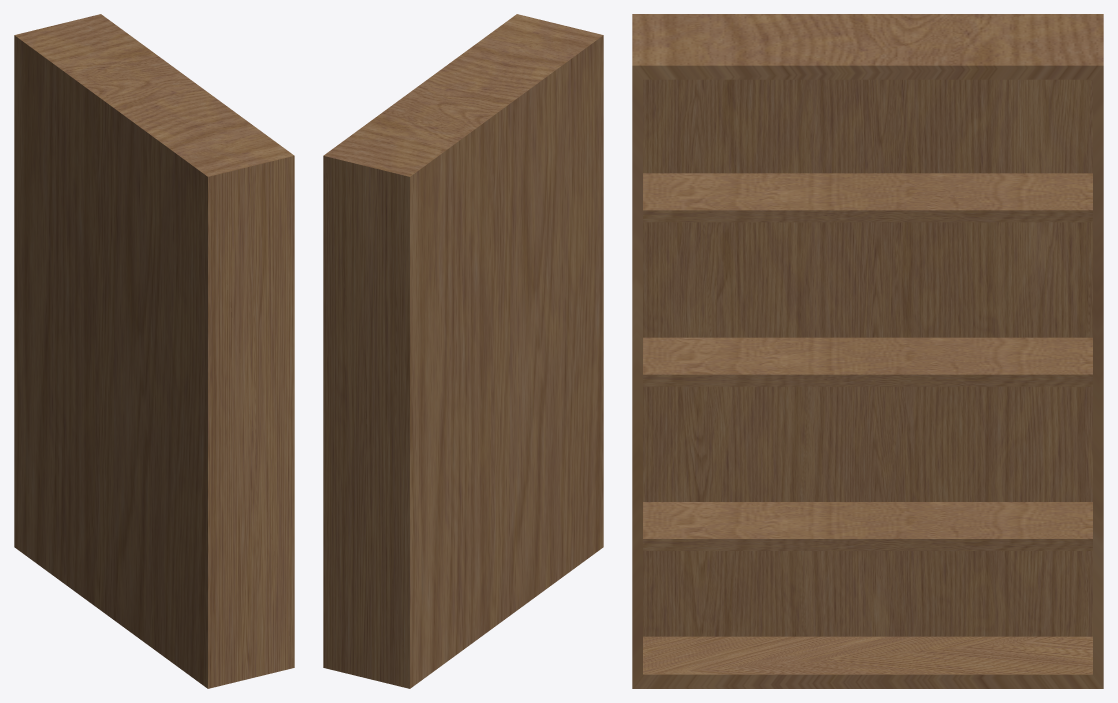
The model's file is Cabinet.fbx.
The picture shows the model from 3 angles, left to right: view 1: azimuth 30°, elevation 25°; view 2: azimuth 150°, elevation 25°; view 3: azimuth 270°, elevation 25°; orthographic projection. The views are drawn at different scales.
Visible parts, largest first — view 1: Cabinet; view 2: Cabinet; view 3: Cabinet.
Part boxes in pixels (<box>): Cabinet: <box>14,14,294,688</box>; Cabinet: <box>323,14,603,688</box>; Cabinet: <box>632,14,1103,688</box>.
Size of the model in its own units: 51.69 by 292 by 200.
